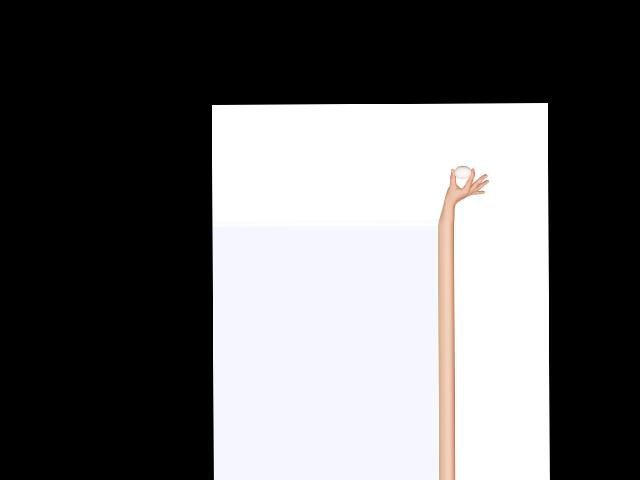egg: (454, 165, 471, 178)
